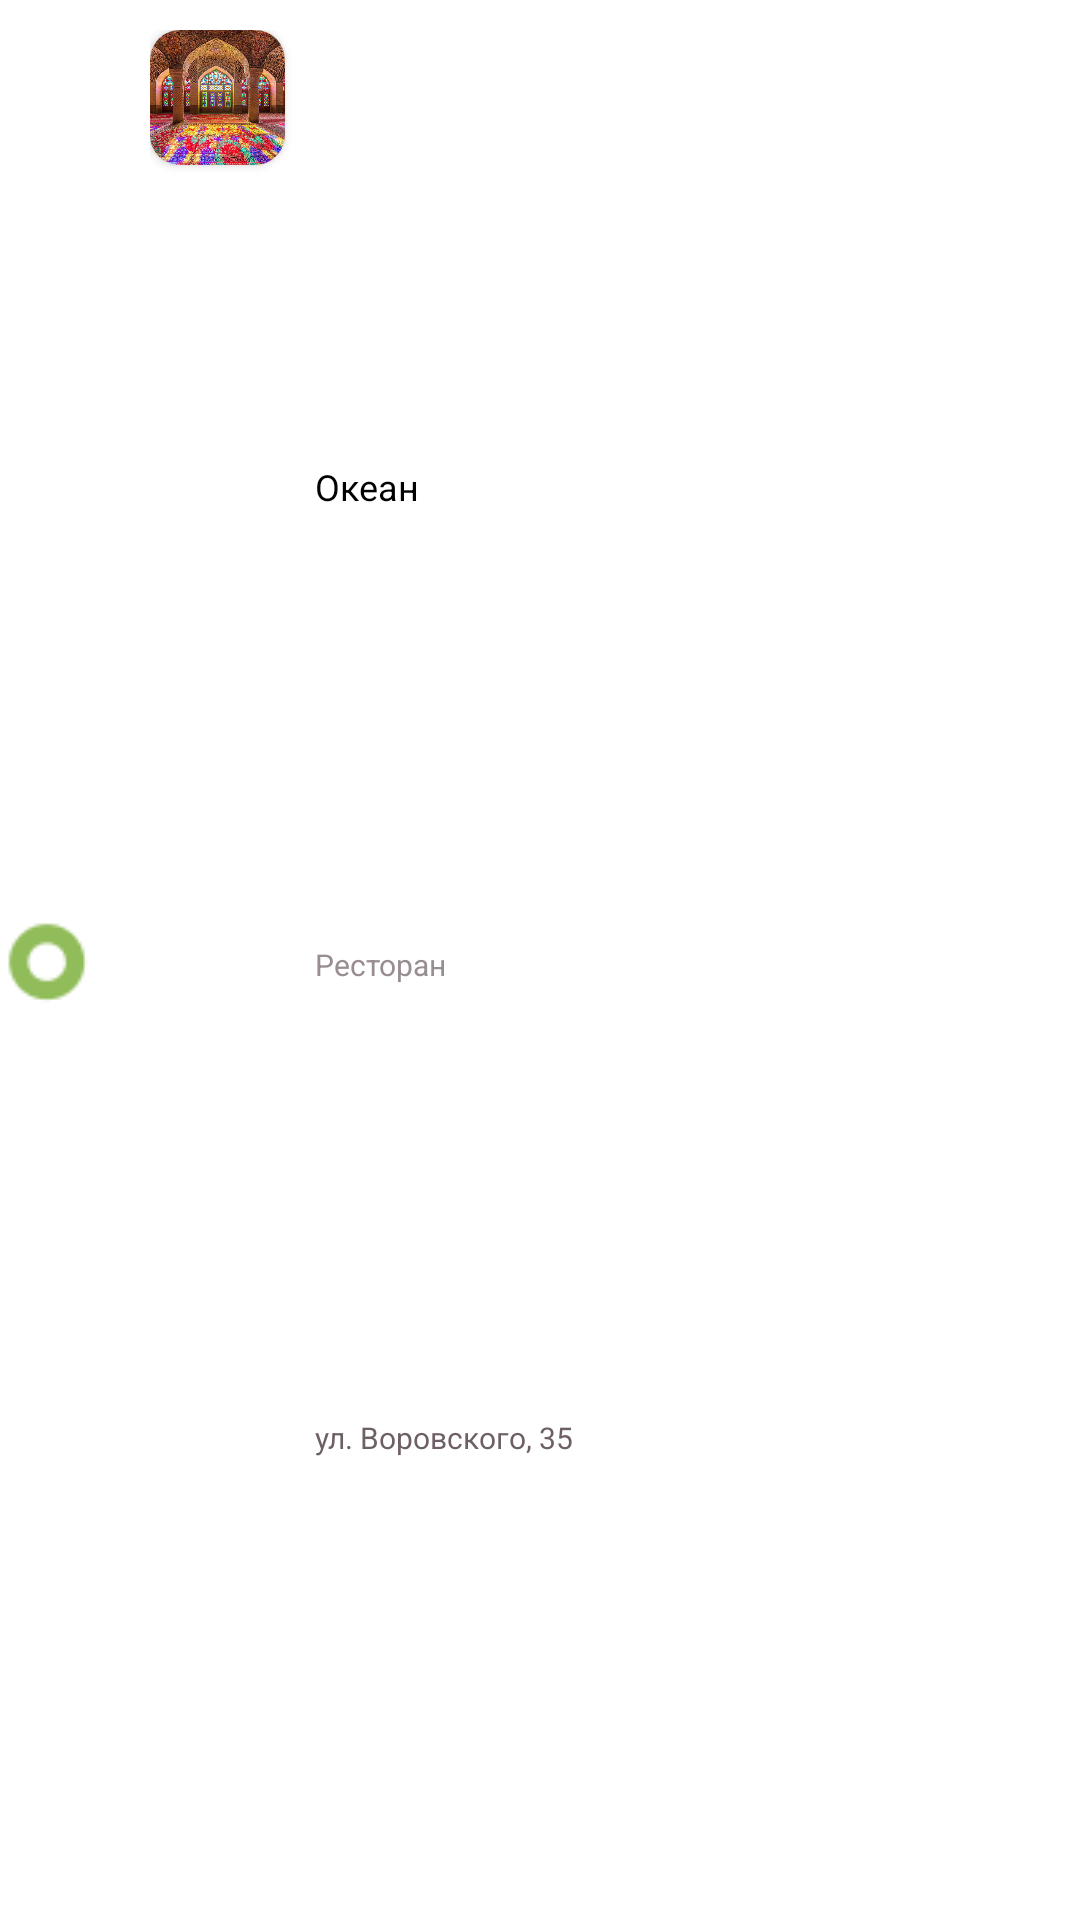

Icons on this 1080x1920 Android screen, each with its box as (x1, y1, x2, y2):
mosque: (150, 30, 285, 165)
